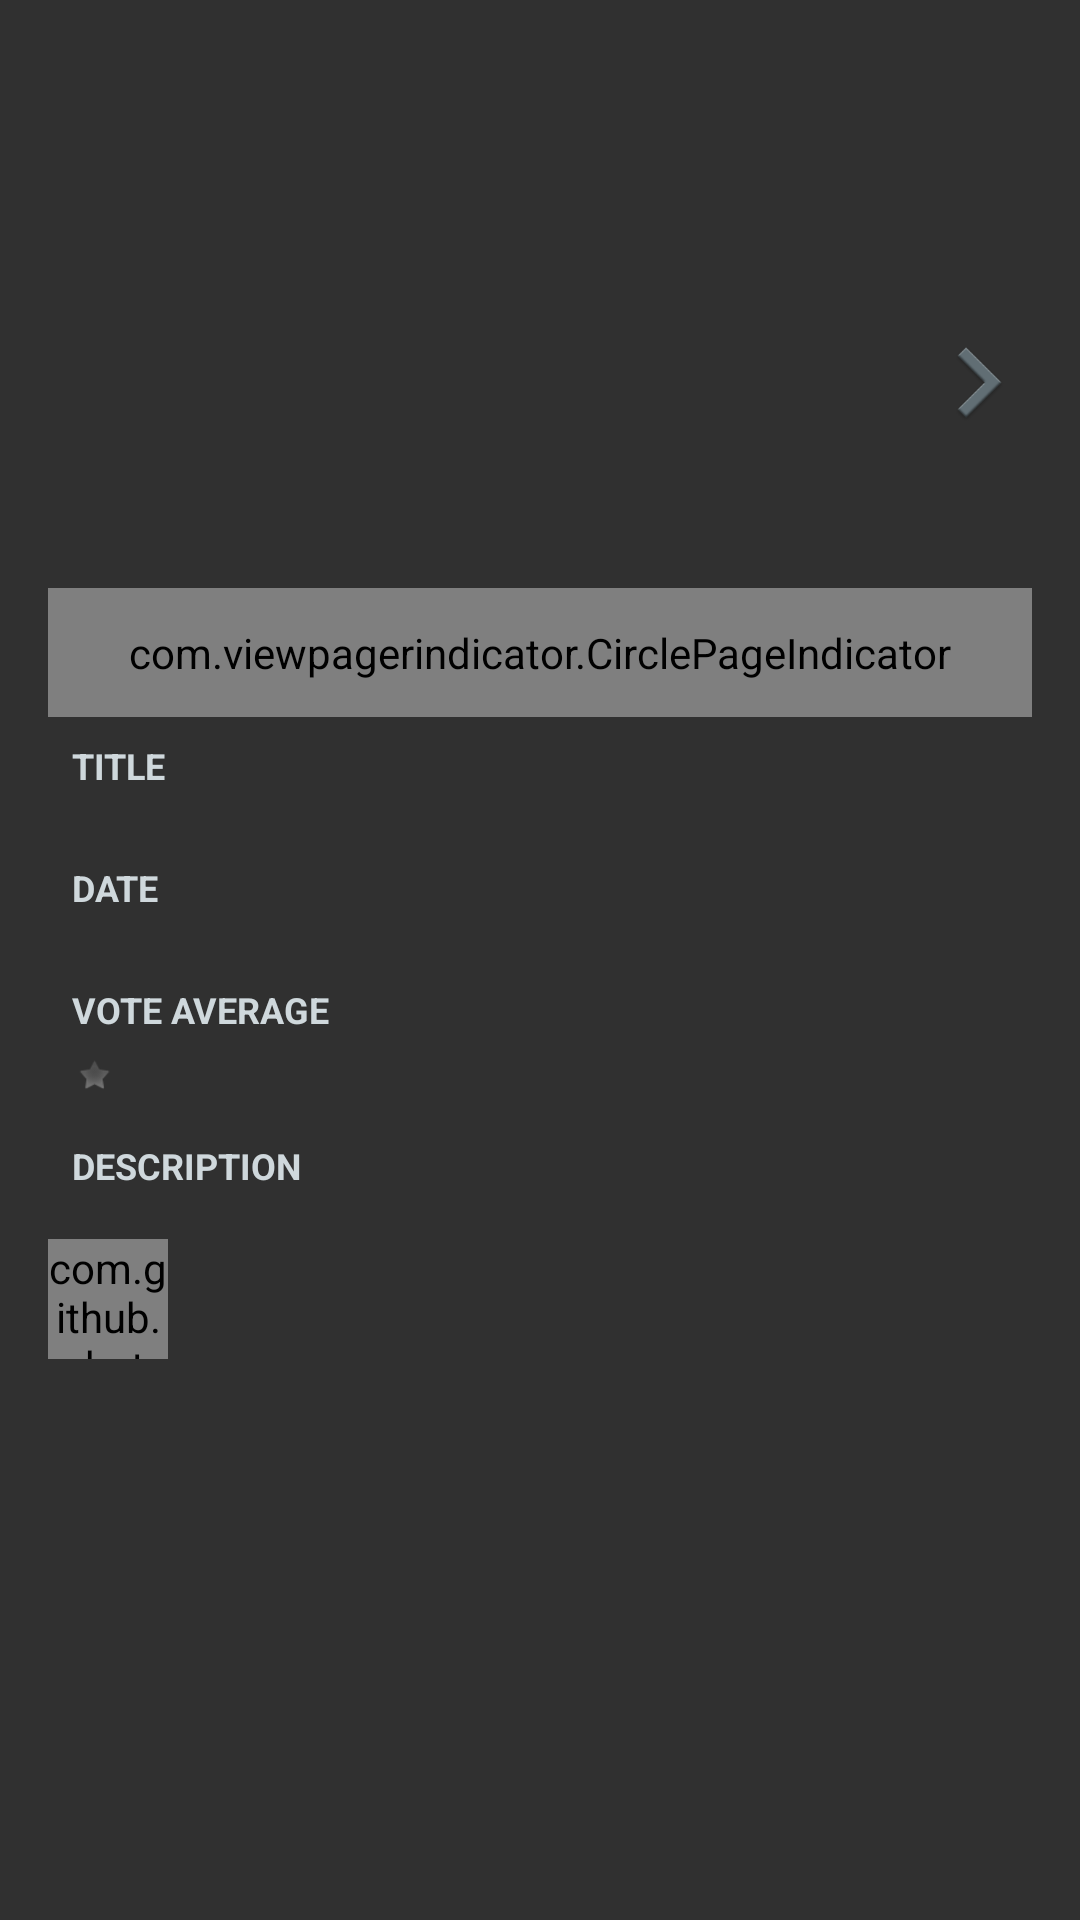

Where to tap for icons on this 1080w x 1920h app screen, as (x=x, y=y):
arrow: (x=979, y=382)
star off: (x=94, y=1075)
